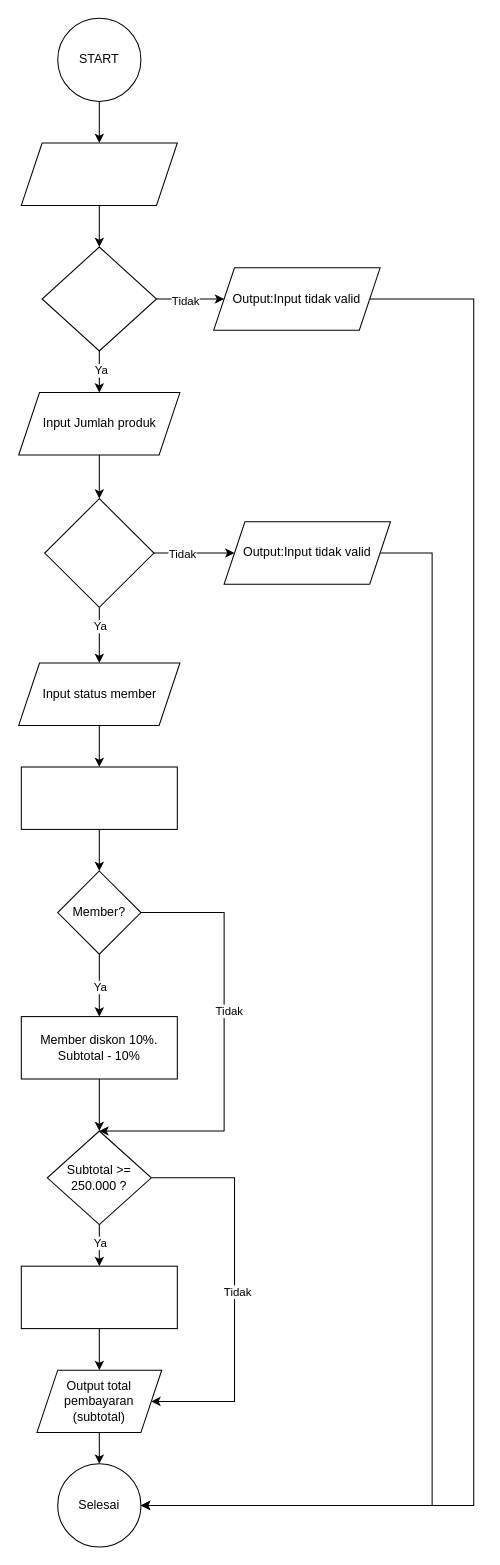
Some shapes in this 500 by 1565 pixel diagram are drawn without their labels. Here are the shapes that lost their labels. From the top down, the centre of each, then its label:
At [98,173]: "Input harga produk".
At [99,298]: "Angka positif?".
At [99,552]: "Bilangan bulat positif ?".
At [98,797]: "Perhitungan sub total. harga produk x jumlah produk".
At [98,1297]: "diskon ongkir 15.000. Subtotal - 15.000".
